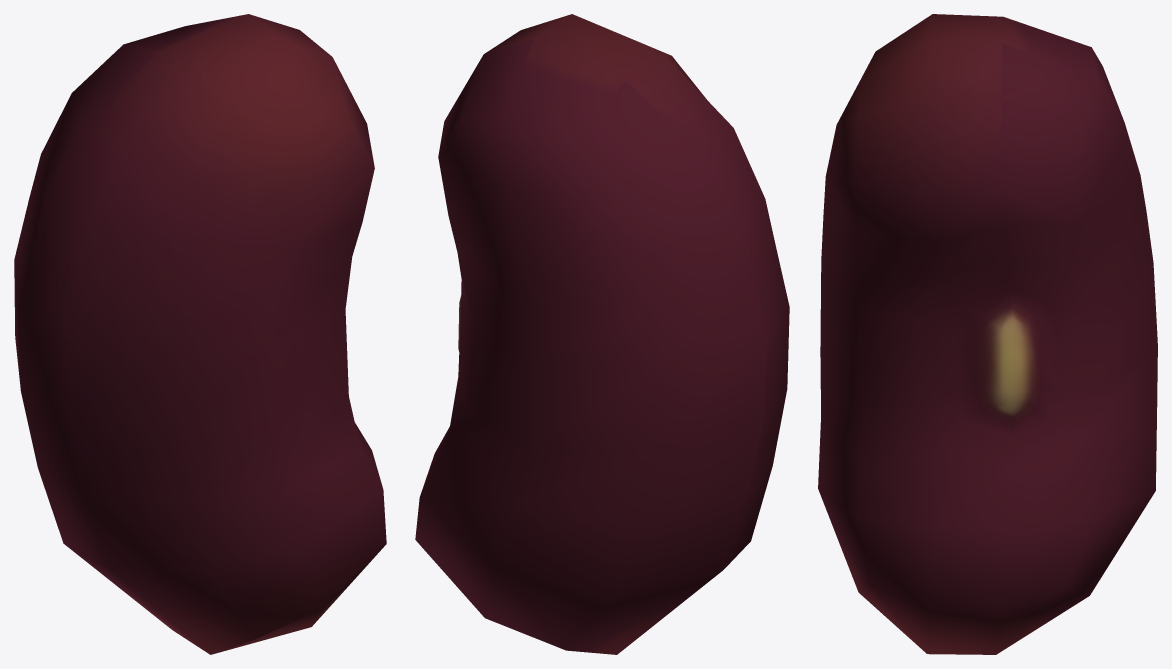
Rendered from redbean3.fbx.
3 views of the same model, side by side, from view 1: azimuth 30°, elevation 25°; view 2: azimuth 150°, elevation 25°; view 3: azimuth 270°, elevation 25° (orthographic).
Visible parts, largest first — view 1: Cube.001; view 2: Cube.001; view 3: Cube.001.
Boxes of the visible parts, bbox=[...] form: Cube.001: bbox=[14, 14, 386, 654]; Cube.001: bbox=[415, 14, 789, 654]; Cube.001: bbox=[818, 14, 1157, 654].
Bounding box in the file's own units: 180 × 307 × 157.
